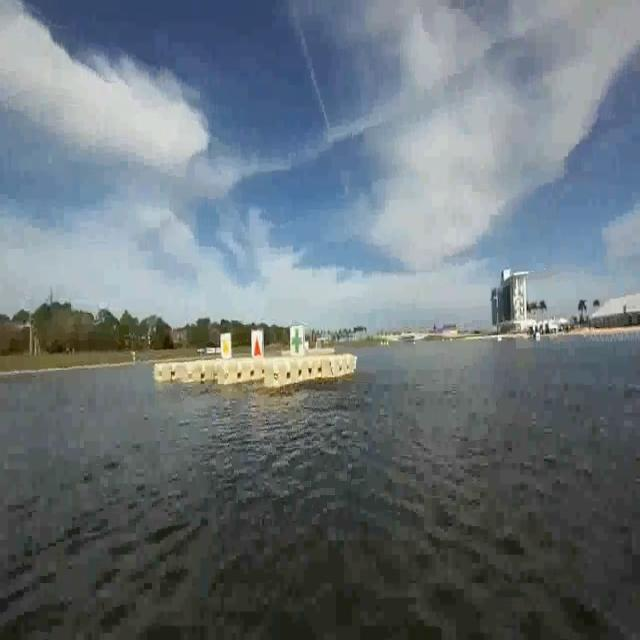blue-cross: (290, 325, 306, 355)
red-dot: (251, 327, 266, 358)
yellow-duck: (221, 332, 232, 360)
